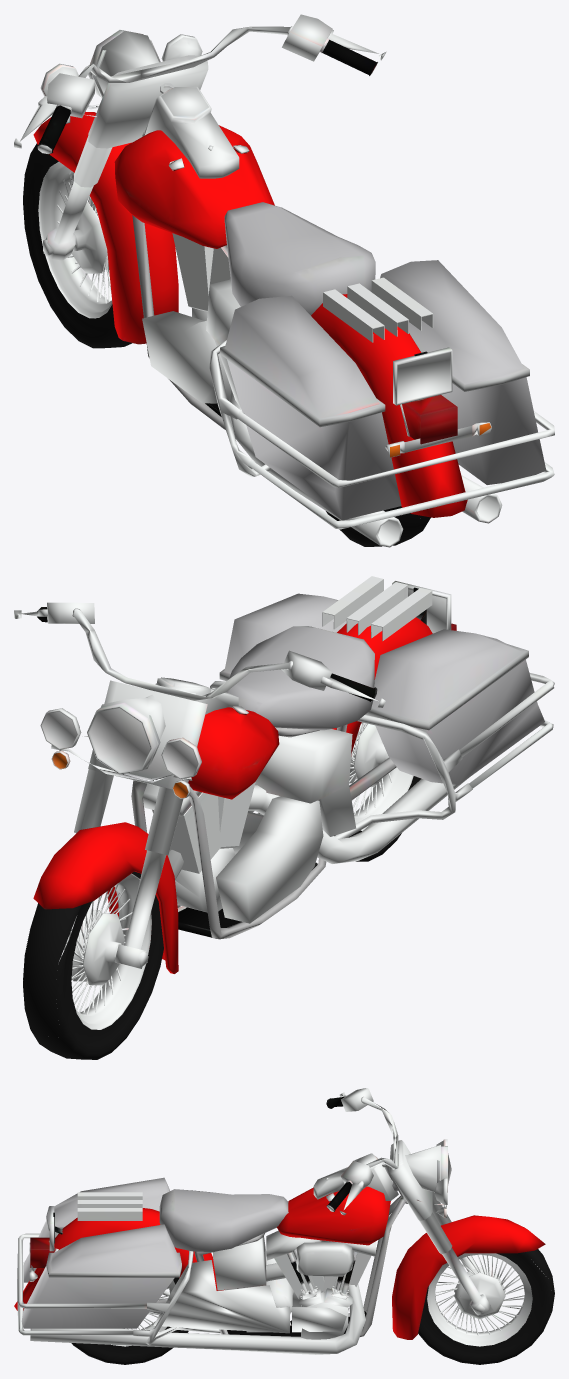
The model's file is moto.glb.
3 views of the same model, one above another, from view 1: azimuth 30°, elevation 25°; view 2: azimuth 150°, elevation 25°; view 3: azimuth 270°, elevation 25° (orthographic). The views are drawn at different scales.
Visible parts, largest first — view 1: carroceria_textura, rueda_del_textura, rueda_tras_textura; view 2: carroceria_textura, rueda_del_textura, rueda_tras_textura; view 3: carroceria_textura, rueda_del_textura, rueda_tras_textura.
Boxes of the visible parts, x1,y1,x2,y2 form: carroceria_textura: (14,14,554,547); rueda_del_textura: (23,148,132,348); rueda_tras_textura: (326,506,430,546); carroceria_textura: (14,576,554,1037); rueda_del_textura: (23,871,163,1059); rueda_tras_textura: (334,722,421,861); carroceria_textura: (14,1088,554,1354); rueda_del_textura: (418,1252,552,1364); rueda_tras_textura: (71,1277,188,1364).
Bounding box in the file's own units: 1.43 × 1.31 × 2.74.
Materials: 1 (1 with a texture image).
